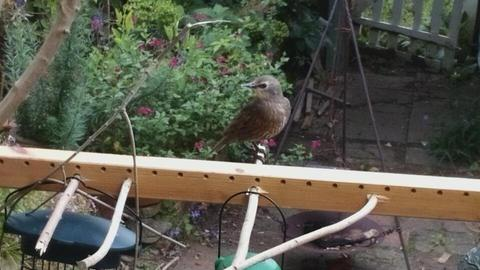starling: (209, 74, 291, 164)
